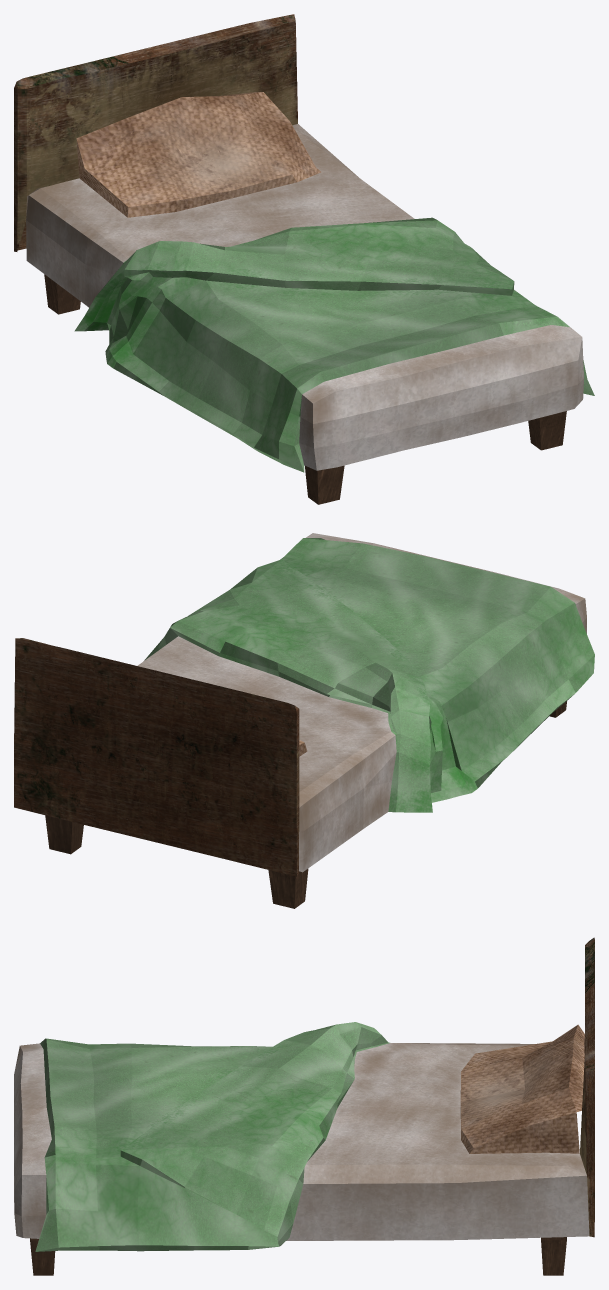
File: Bed.fbx
3 views of the same model, one above another, from view 1: azimuth 30°, elevation 25°; view 2: azimuth 150°, elevation 25°; view 3: azimuth 270°, elevation 25° (orthographic). The views are drawn at different scales.
Visible parts, largest first — view 1: Bed; view 2: Bed; view 3: Bed.
Boxes of the visible parts, x1,y1,x2,y2 form: Bed: (14, 14, 594, 504); Bed: (14, 533, 594, 908); Bed: (14, 937, 594, 1275).
Size of the model in its own units: 5232 by 3074 by 7530.
